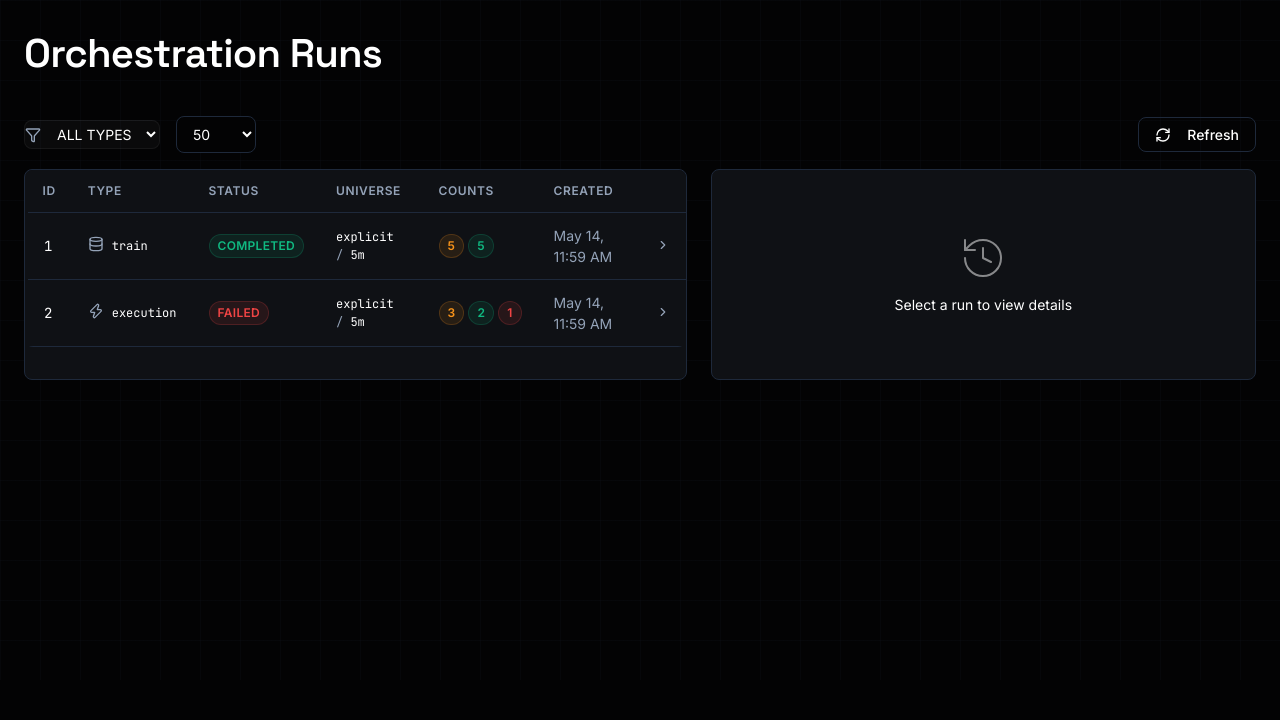
RunsPage › renders error when detail fetch fails
Click the row with test id "run-row-1" at (356, 246), box [26, 212, 686, 280]
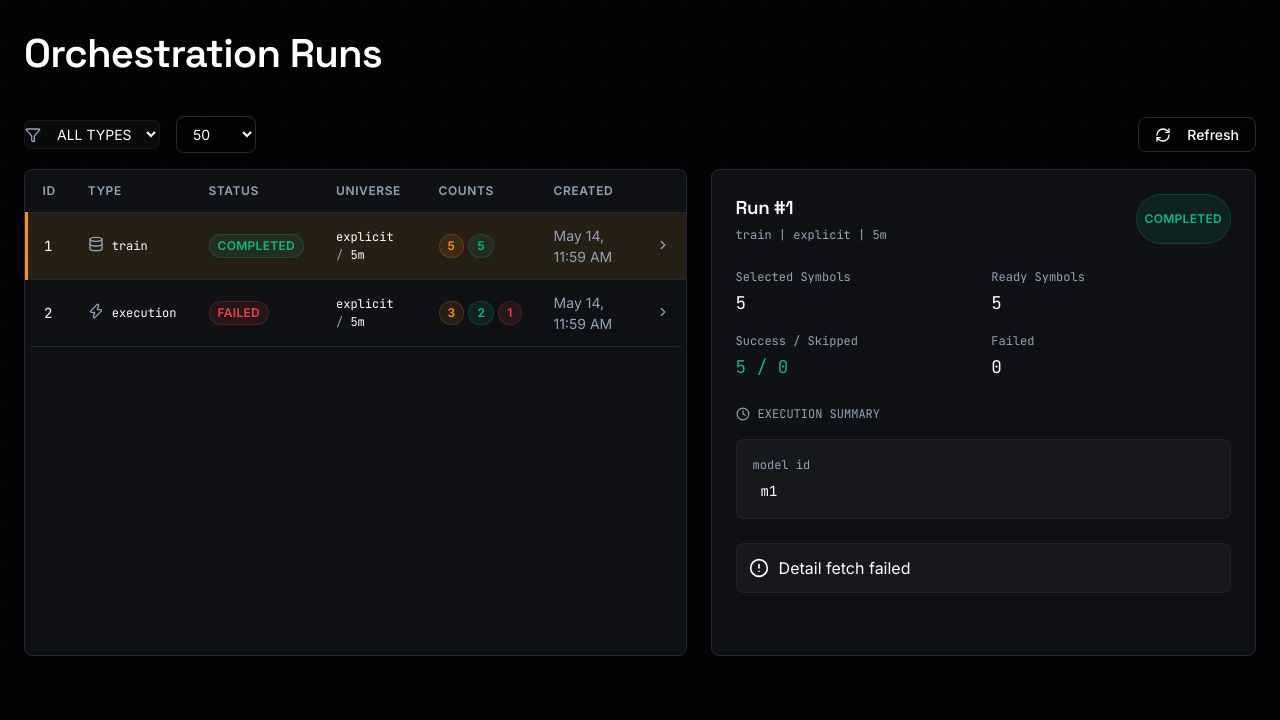
Expected: the row with test id "run-row-2" is shown, [26, 280, 686, 346]
Now the text "Detail fetch failed" is shown, box [736, 543, 1231, 593]
